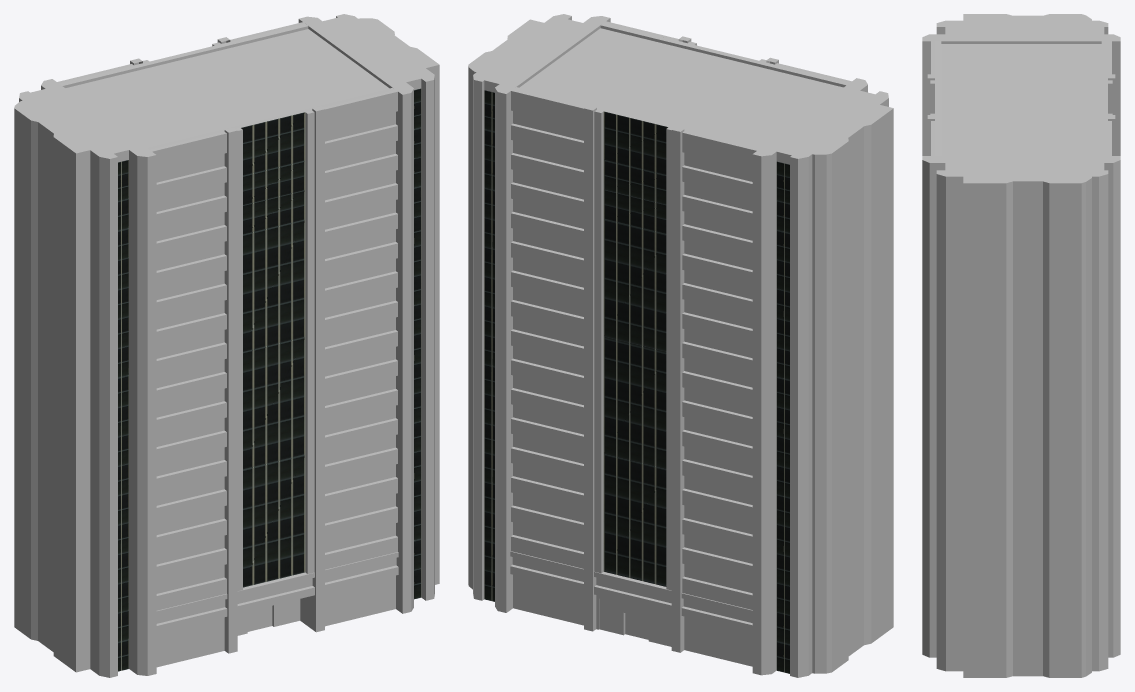
Rendered from TWB-01.fbx.
3 views of the same model, side by side, from view 1: azimuth 30°, elevation 25°; view 2: azimuth 150°, elevation 25°; view 3: azimuth 270°, elevation 25° (orthographic). The views are drawn at different scales.
Parts seen in each view (by area): view 1: Building; view 2: Building; view 3: Building.
Boxes of the visible parts, left/top/right/bottom form: Building: left=14, top=14, right=439, bottom=677; Building: left=468, top=14, right=893, bottom=677; Building: left=922, top=14, right=1120, bottom=677.
Size of what is drawn, in the model's own units: 38.87 by 53.2 by 19.26.
